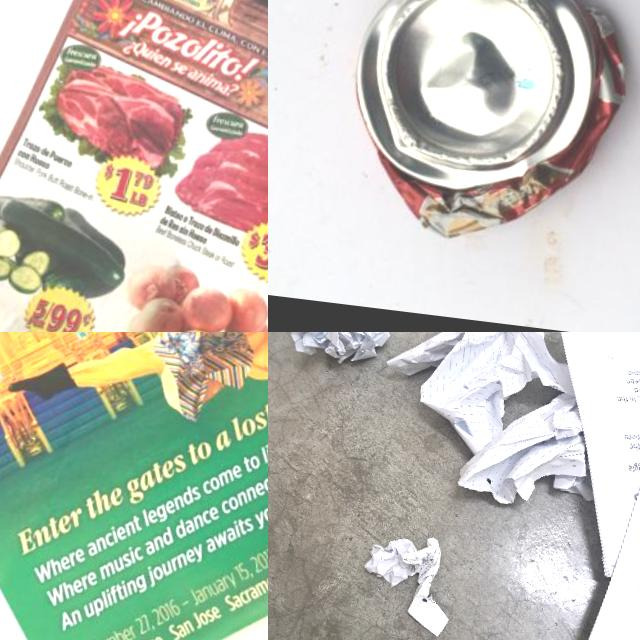lata: (338, 0, 640, 258)
papel: (0, 0, 268, 332), (0, 332, 268, 640), (523, 332, 640, 593), (378, 332, 582, 464), (456, 380, 606, 514), (571, 393, 640, 640), (356, 528, 457, 638), (289, 332, 396, 369)
